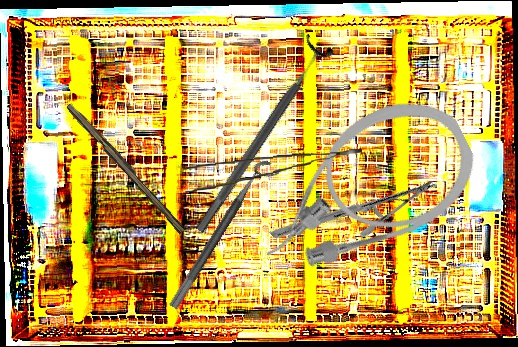Cannula: (231, 81, 492, 293)
Fixation Ring: (184, 33, 336, 240), (167, 156, 283, 318)
Needle Holder: (269, 124, 437, 295)
Scalpel Handle: (63, 100, 190, 235)
Tissue Forceps: (182, 148, 364, 193)
